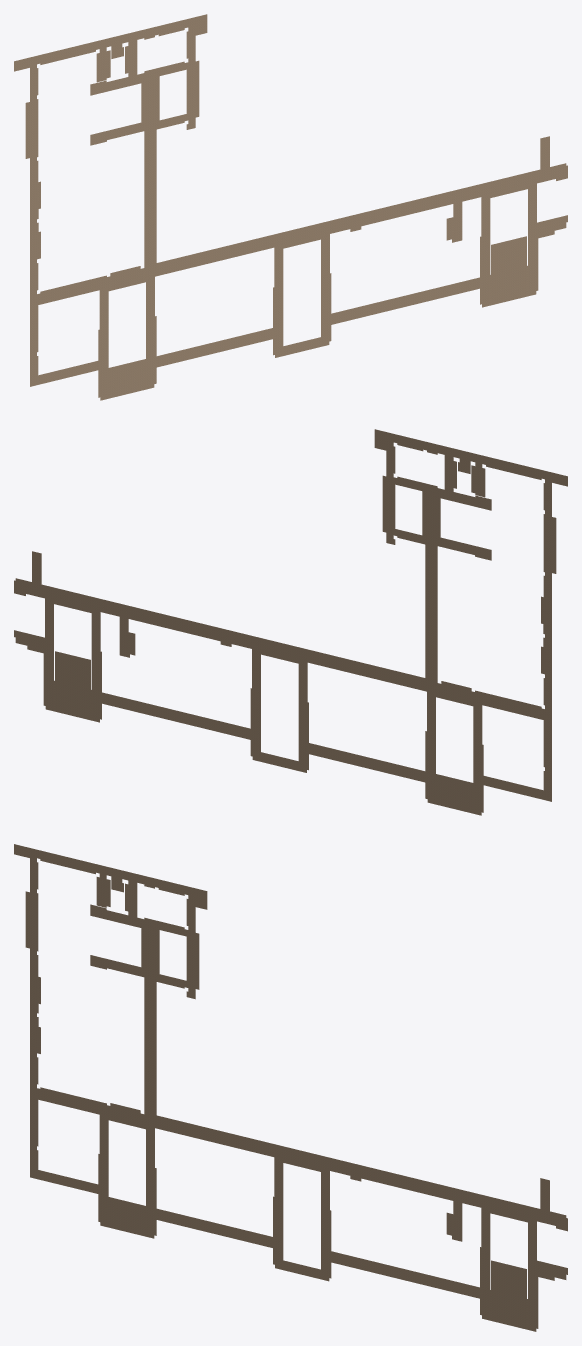
Rendered from output_floors.obj.
3 views of the same model, one above another, from view 1: azimuth 30°, elevation 25°; view 2: azimuth 150°, elevation 25°; view 3: azimuth 330°, elevation 25° (orthographic).
Parts seen in each view (by area): view 1: floor_41, floor_60, floor_86, floor_40, floor_0, floor_64, floor_63, floor_79, floor_70, floor_74, floor_67, floor_71 (+8 smaller); view 2: floor_41, floor_60, floor_86, floor_40, floor_0, floor_64, floor_63, floor_79, floor_70, floor_74, floor_71, floor_75 (+8 smaller); view 3: floor_41, floor_60, floor_86, floor_40, floor_0, floor_64, floor_63, floor_79, floor_70, floor_74, floor_67, floor_75 (+6 smaller).
Boxes of the visible parts, <box> form: floor_41: <box>156,169,540,275</box>; floor_60: <box>30,66,36,386</box>; floor_86: <box>491,236,526,305</box>; floor_40: <box>144,129,156,278</box>; floor_0: <box>14,14,207,69</box>; floor_64: <box>331,277,479,324</box>; floor_63: <box>156,328,272,367</box>; floor_79: <box>108,359,145,398</box>; floor_70: <box>274,248,283,354</box>; floor_74: <box>481,198,490,304</box>; floor_67: <box>146,280,154,385</box>; floor_71: <box>321,237,329,343</box>; floor_41: <box>41,584,425,690</box>; floor_60: <box>545,481,551,801</box>; floor_86: <box>55,651,90,720</box>; floor_40: <box>425,544,437,694</box>; floor_0: <box>374,429,567,484</box>; floor_64: <box>102,692,250,739</box>; floor_63: <box>309,743,425,782</box>; floor_79: <box>436,774,473,813</box>; floor_70: <box>298,664,307,769</box>; floor_74: <box>91,613,100,719</box>; floor_71: <box>252,652,260,758</box>; floor_75: <box>45,602,53,707</box>; floor_41: <box>156,1115,540,1221</box>; floor_60: <box>30,858,36,1178</box>; floor_86: <box>491,1260,526,1329</box>; floor_40: <box>144,979,156,1128</box>; floor_0: <box>14,844,207,899</box>; floor_64: <box>331,1251,479,1298</box>; floor_63: <box>156,1208,272,1247</box>; floor_79: <box>108,1197,146,1236</box>; floor_70: <box>274,1160,283,1266</box>; floor_74: <box>481,1211,490,1317</box>; floor_67: <box>146,1129,154,1235</box>; floor_75: <box>528,1222,536,1328</box>.
Size of the model in its own units: 0.7315 by 0.4548 by 0.
1 material, 1 textured.
